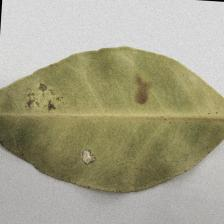black spot: (20, 73, 164, 170)
